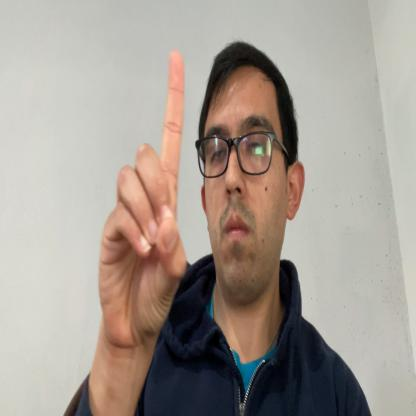D: (98, 48, 186, 351)
